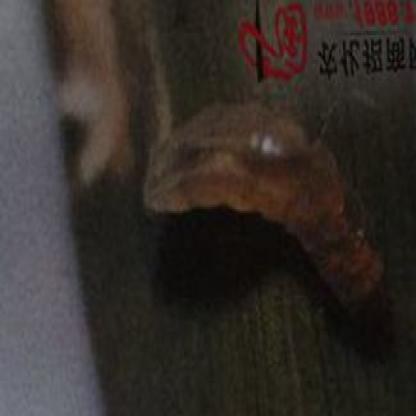whorl-maggot: (139, 89, 394, 321)
